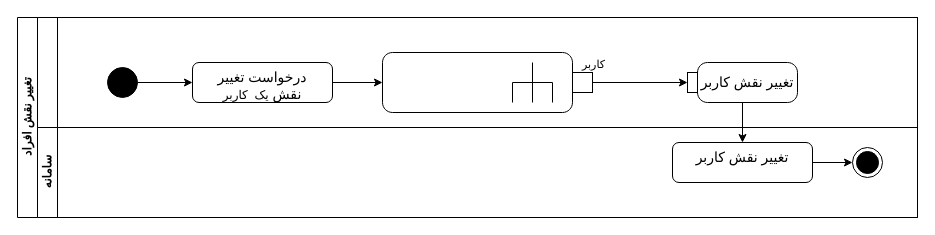
This 935x235 diagram has some shape labels left out. The box of each missing label's shape, as (x1, y1, x2, y2) in pixels:
جستجوی کاربر: (382, 52, 572, 112)
مدیر سامانه: (36, 16, 918, 128)
